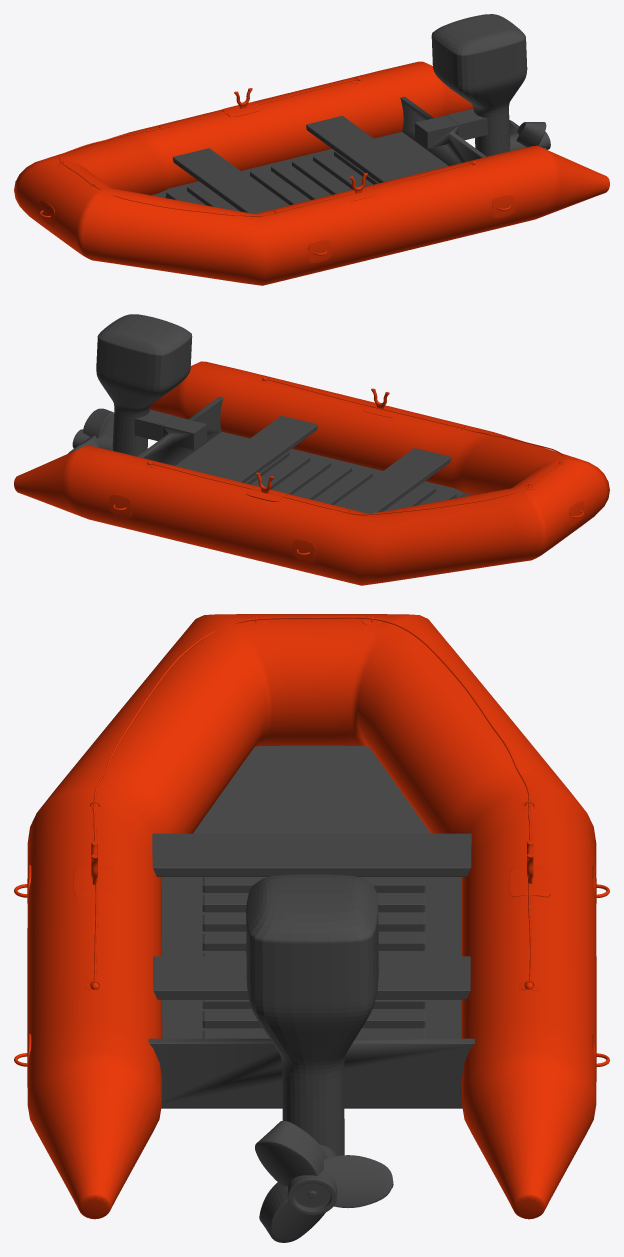
Rendered from boatmodel2.fbx.
3 renders of one model, top to bottom at view 1: azimuth 30°, elevation 25°; view 2: azimuth 150°, elevation 25°; view 3: azimuth 270°, elevation 25°, orthographic. The views are drawn at different scales.
Visible parts, largest first — view 1: polySurface12, pCube8; view 2: polySurface12, pCube8; view 3: polySurface12, pCube8.
Part boxes in pixels (<box>): polySurface12: <box>14,61,609,285</box>; pCube8: <box>152,14,550,213</box>; polySurface12: <box>14,361,609,585</box>; pCube8: <box>68,314,471,513</box>; polySurface12: <box>14,614,609,1219</box>; pCube8: <box>148,745,474,1242</box>.
Size of the model in its own units: 1010 by 301 by 542.
